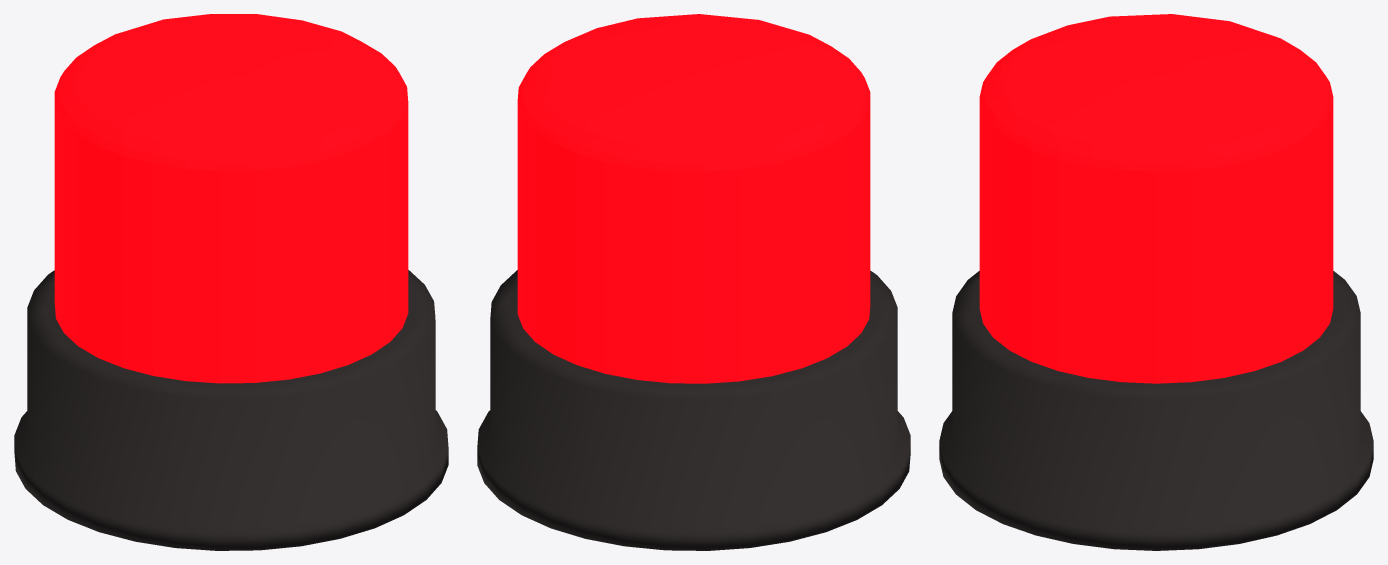
The model's file is Alarm.fbx.
3 views of the same model, side by side, from view 1: azimuth 30°, elevation 25°; view 2: azimuth 150°, elevation 25°; view 3: azimuth 270°, elevation 25° (orthographic).
Visible parts, largest first — view 1: Alarm; view 2: Alarm; view 3: Alarm.
Boxes of the visible parts, box(x1,y1,x2,y2) form: Alarm: box(14, 14, 448, 550); Alarm: box(477, 14, 910, 550); Alarm: box(939, 14, 1373, 550).
Size of the model in its own units: 29.69 by 28.77 by 29.69.
